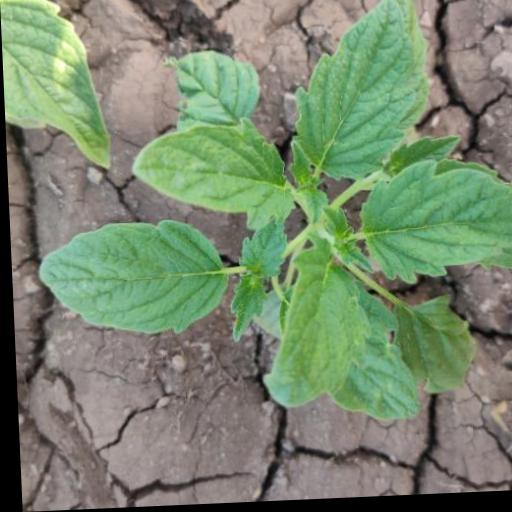crop: (30, 0, 512, 441)
